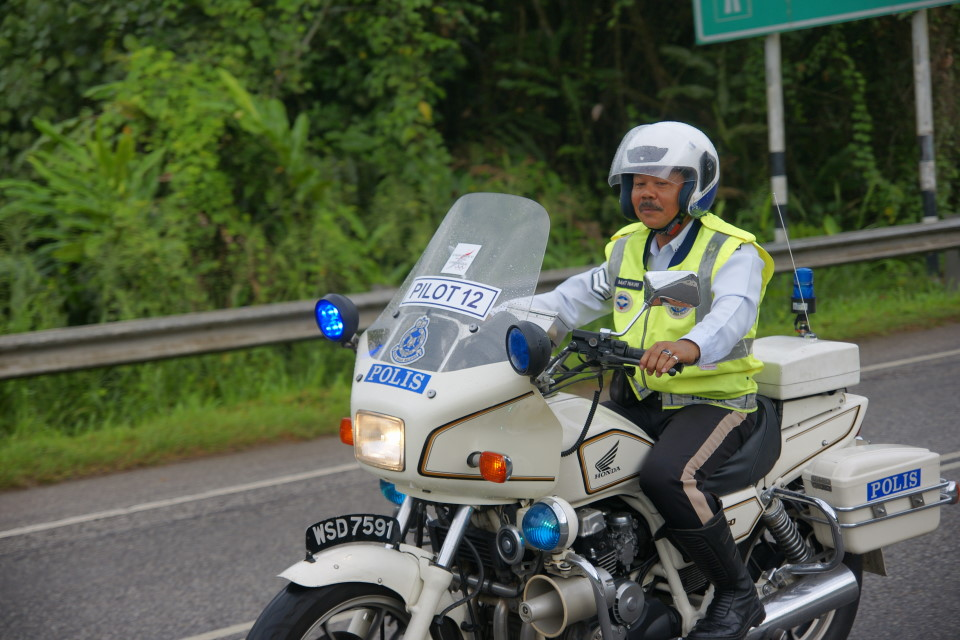helmet: (608, 129, 717, 209)
